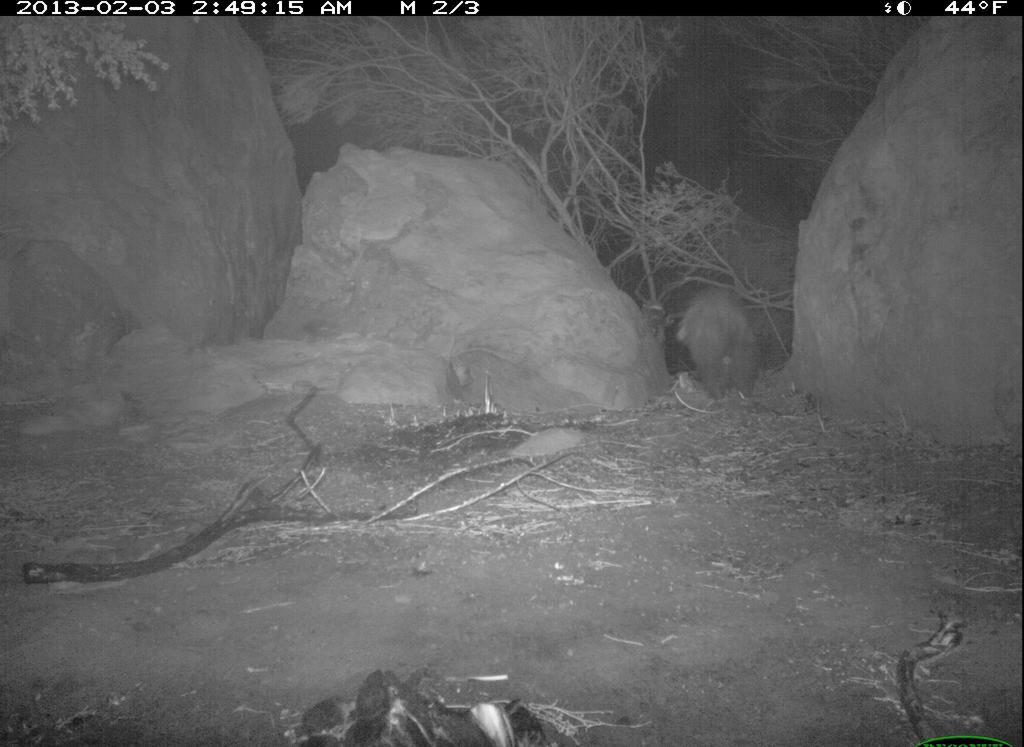skunk: (674, 280, 776, 406)
